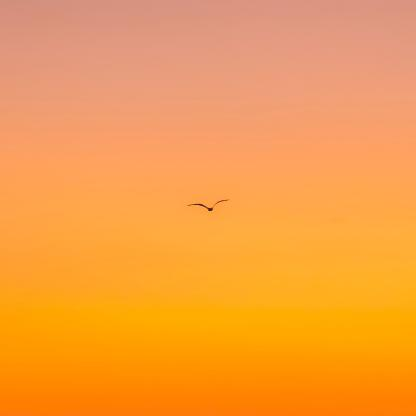bird: (186, 200, 230, 212)
